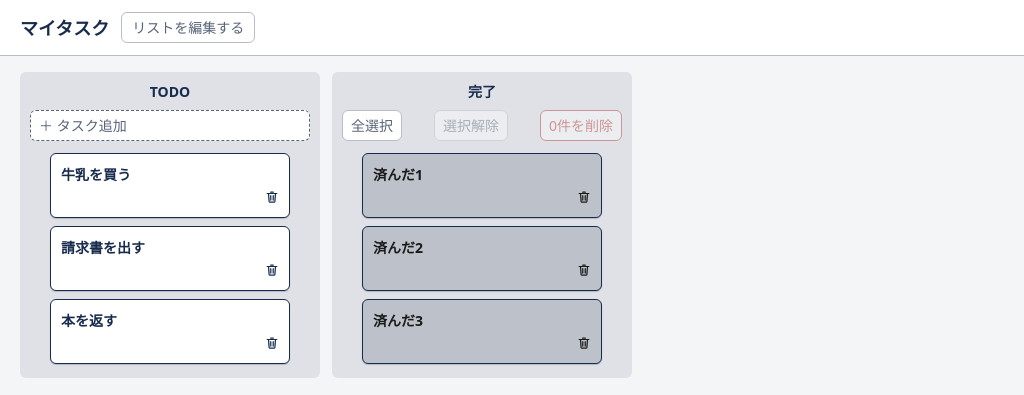
Test: 完了列の選択削除（F-15） › 1件でも選ぶと、削除ボタンが押せるようになる
Expected: the heading "牛乳を買う" is shown, [61, 165, 131, 184]
Step 1. Click the 4th checkbox labelled "済んだ2" → x=482, y=258, box [342, 226, 622, 291]
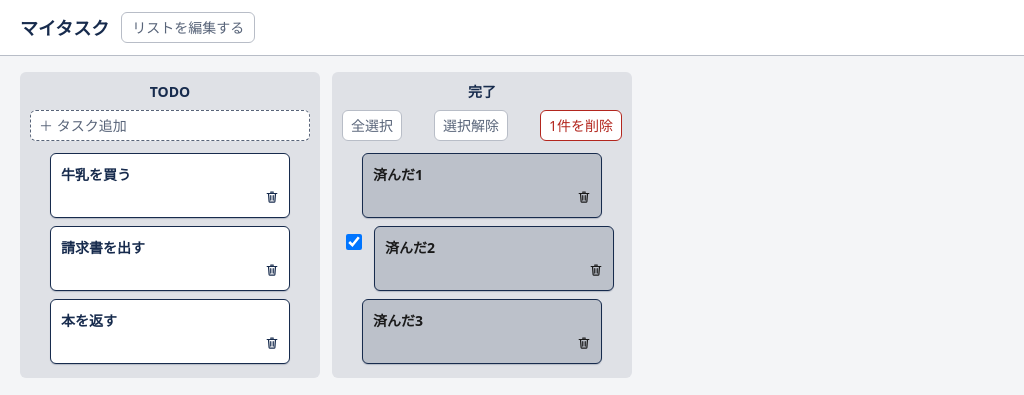
Expected: the button "1件を削除" is enabled, [540, 110, 622, 141]
Expected: the button "選択解除" is enabled, [434, 110, 508, 141]
